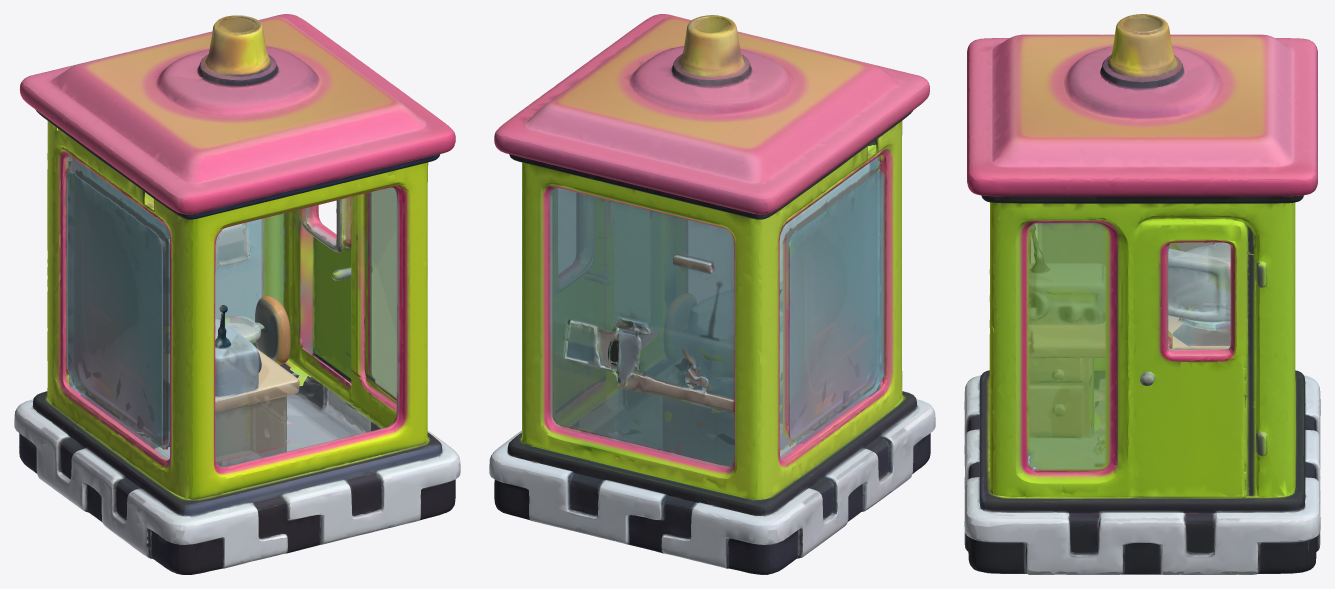
File: u_bld_security_booth.glb
The picture shows the model from 3 angles, left to right: view 1: azimuth 30°, elevation 25°; view 2: azimuth 150°, elevation 25°; view 3: azimuth 270°, elevation 25°; orthographic projection. The views are drawn at different scales.
Visible parts, largest first — view 1: geometry_0; view 2: geometry_0; view 3: geometry_0.
Part boxes in pixels (bbox=[...]): geometry_0: bbox=[14, 14, 460, 574]; geometry_0: bbox=[489, 14, 935, 574]; geometry_0: bbox=[964, 14, 1320, 574].
Bounding box in the file's own units: 1.19 × 1.8 × 1.2.
Materials: 1 (1 with a texture image).
